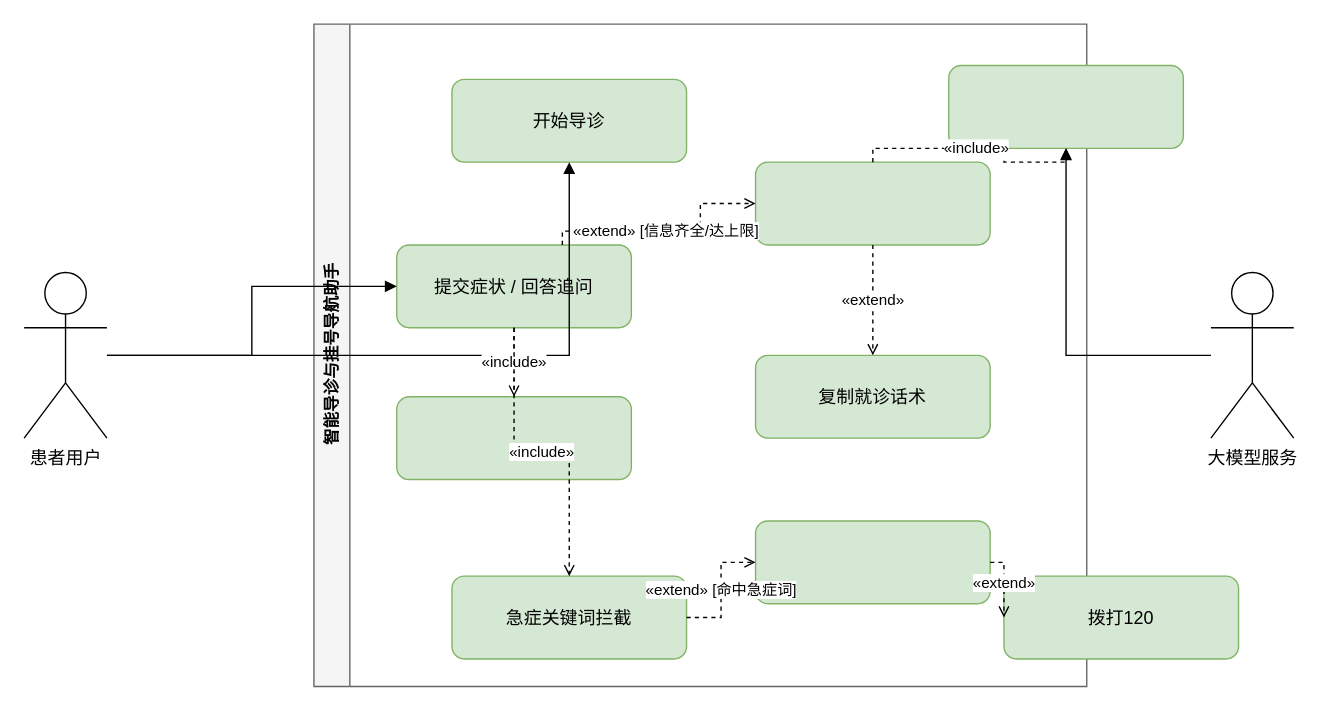
This 1321x711 diagram has some shape labels left out. Each missing label, with the centre of its shape:
多轮追问补全信息: the point at 513,437
查看分诊报告: the point at 872,203
查看急症提示: the point at 872,562
知识检索与结构化生成: the point at 1065,106
